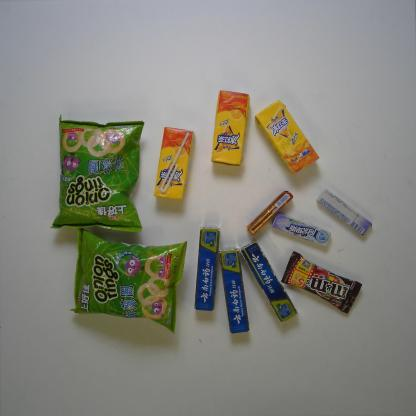Candy: (317, 187, 373, 238), (270, 210, 332, 250), (245, 190, 294, 239)
Chocolate: (283, 248, 362, 316)
Drink: (256, 100, 322, 176), (210, 88, 251, 170), (152, 125, 194, 202)
Personal Hygiene: (237, 239, 299, 323), (217, 247, 253, 335), (192, 223, 221, 312)
Puffed Food: (68, 224, 190, 335), (50, 114, 147, 237)
